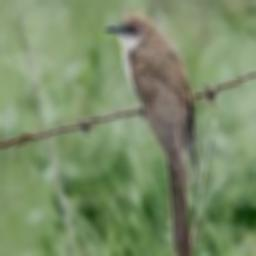Cuckoo: (103, 13, 199, 256)
